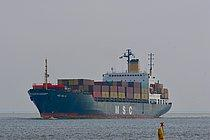Ship: (26, 49, 176, 122)
